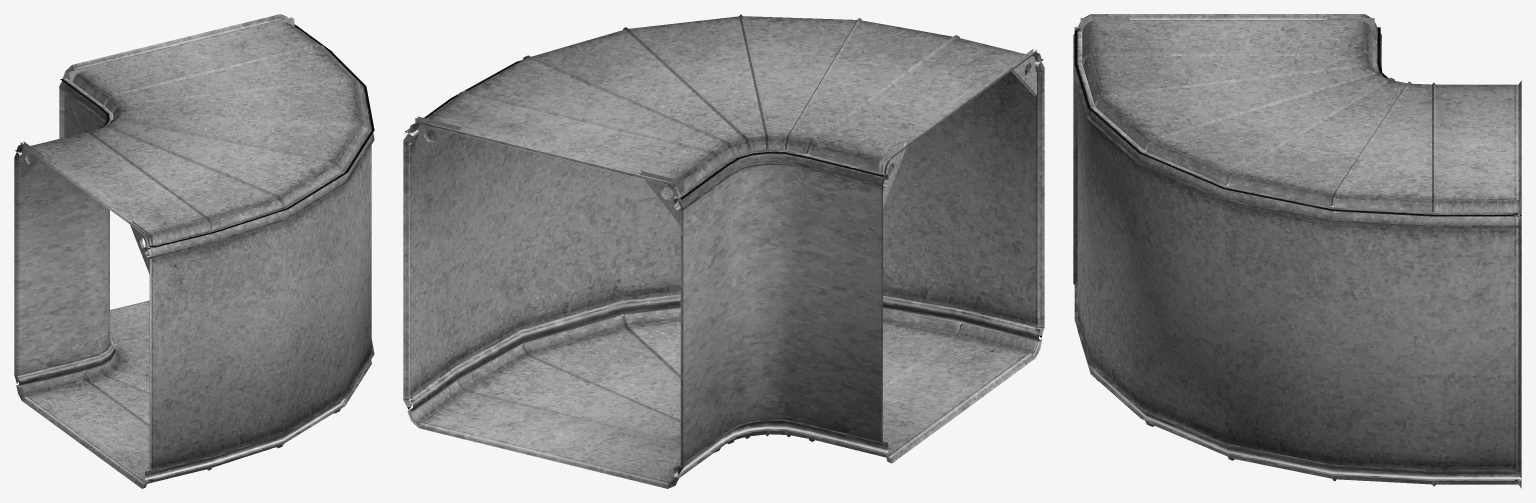
Rendered from vent_shaft_turn_90.dae.
3 renders of one model, left to right at view 1: azimuth 30°, elevation 25°; view 2: azimuth 150°, elevation 25°; view 3: azimuth 270°, elevation 25°, orthographic. The views are drawn at different scales.
Visible parts, largest first — view 1: turn_90; view 2: turn_90; view 3: turn_90.
Boxes of the visible parts, left/top/right/bottom form: turn_90: left=14, top=14, right=374, bottom=488; turn_90: left=403, top=14, right=1044, bottom=488; turn_90: left=1073, top=14, right=1521, bottom=488.
Size of the model in its own units: 2.29 by 1.65 by 2.29.
